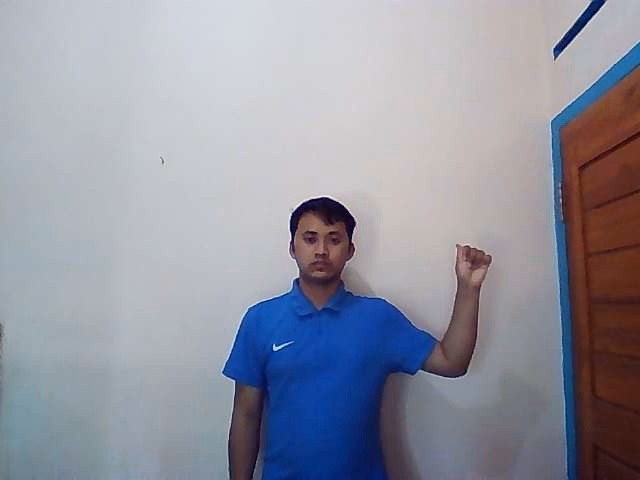A: (454, 241, 492, 287)
